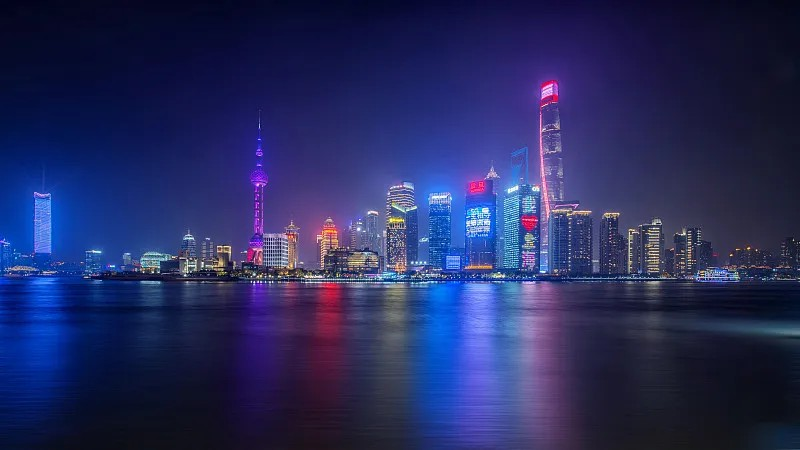Oriental: (246, 109, 268, 265)
